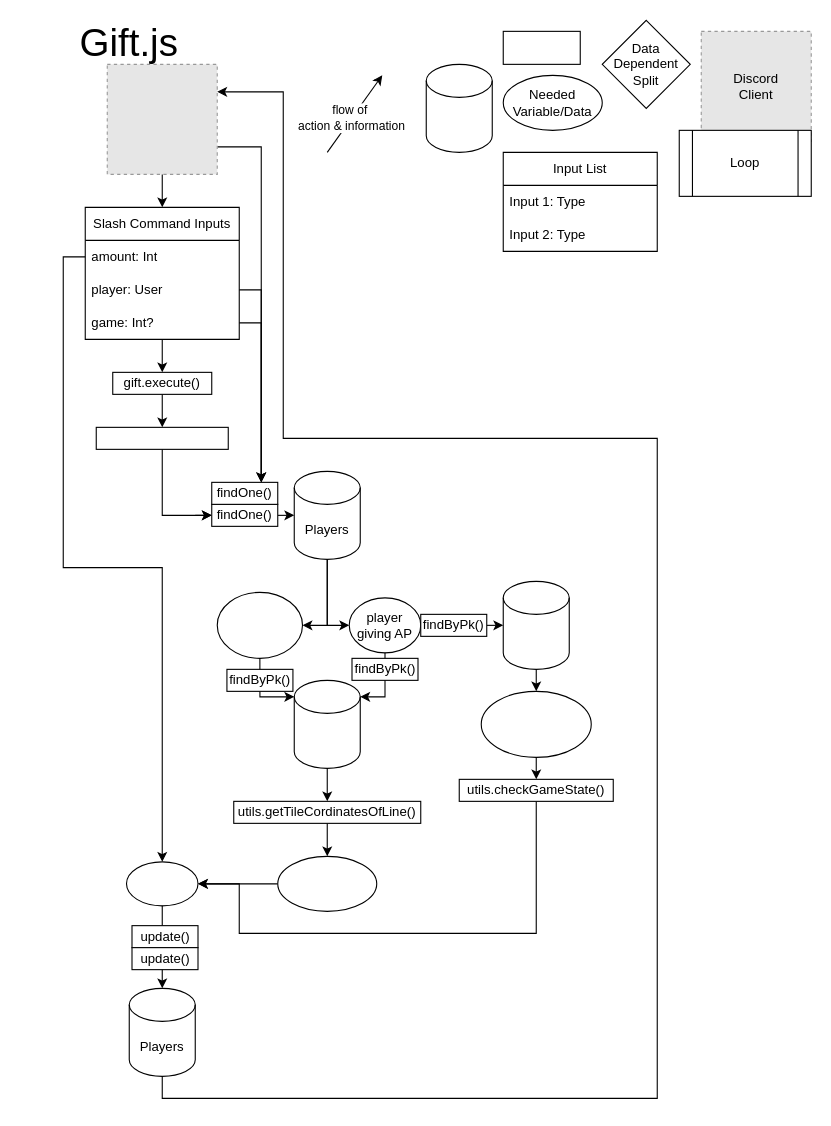
The diagram is 831 pixels wide and 1126 high, and some of its shapes have lost their labels. Grey dashed boxes stand in for pictures. Here are the shapes that lost their labels. From the top down, the centre of each, then its label:
(541,47): Function()
(458,107): Database Object
(161,437): gift.inputValidation()
(259,624): player to give the gifted AP
(535,624): Classes
(326,723): Tiles
(535,723): Are they a clockwatcher?
(161,883): Valid Inputs
(327,883): Are they within range?
